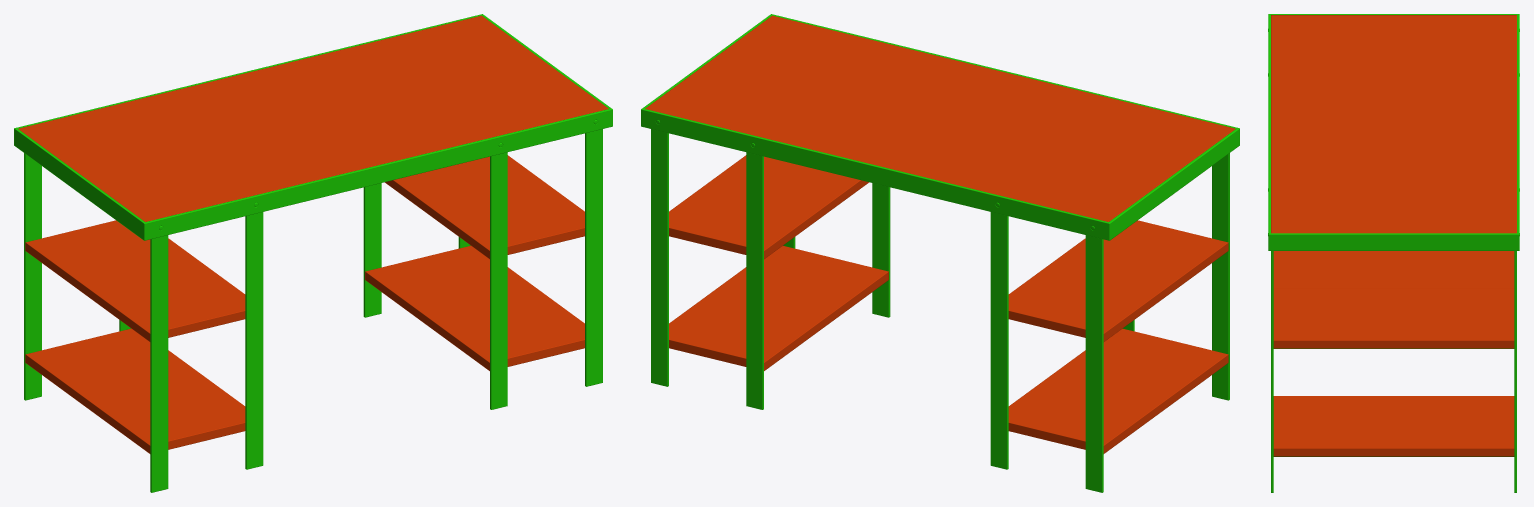
File: desk-027.fbx
3 views of the same model, side by side, from view 1: azimuth 30°, elevation 25°; view 2: azimuth 150°, elevation 25°; view 3: azimuth 270°, elevation 25° (orthographic). The views are drawn at different scales.
Visible parts, largest first — view 1: desk-027; view 2: desk-027; view 3: desk-027.
Boxes of the visible parts, x1=… form: desk-027: x1=14, y1=14, x2=612, y2=492; desk-027: x1=641, y1=14, x2=1239, y2=492; desk-027: x1=1268, y1=14, x2=1519, y2=492.
Size of the model in its own units: 137 by 76.2 by 66.19.
